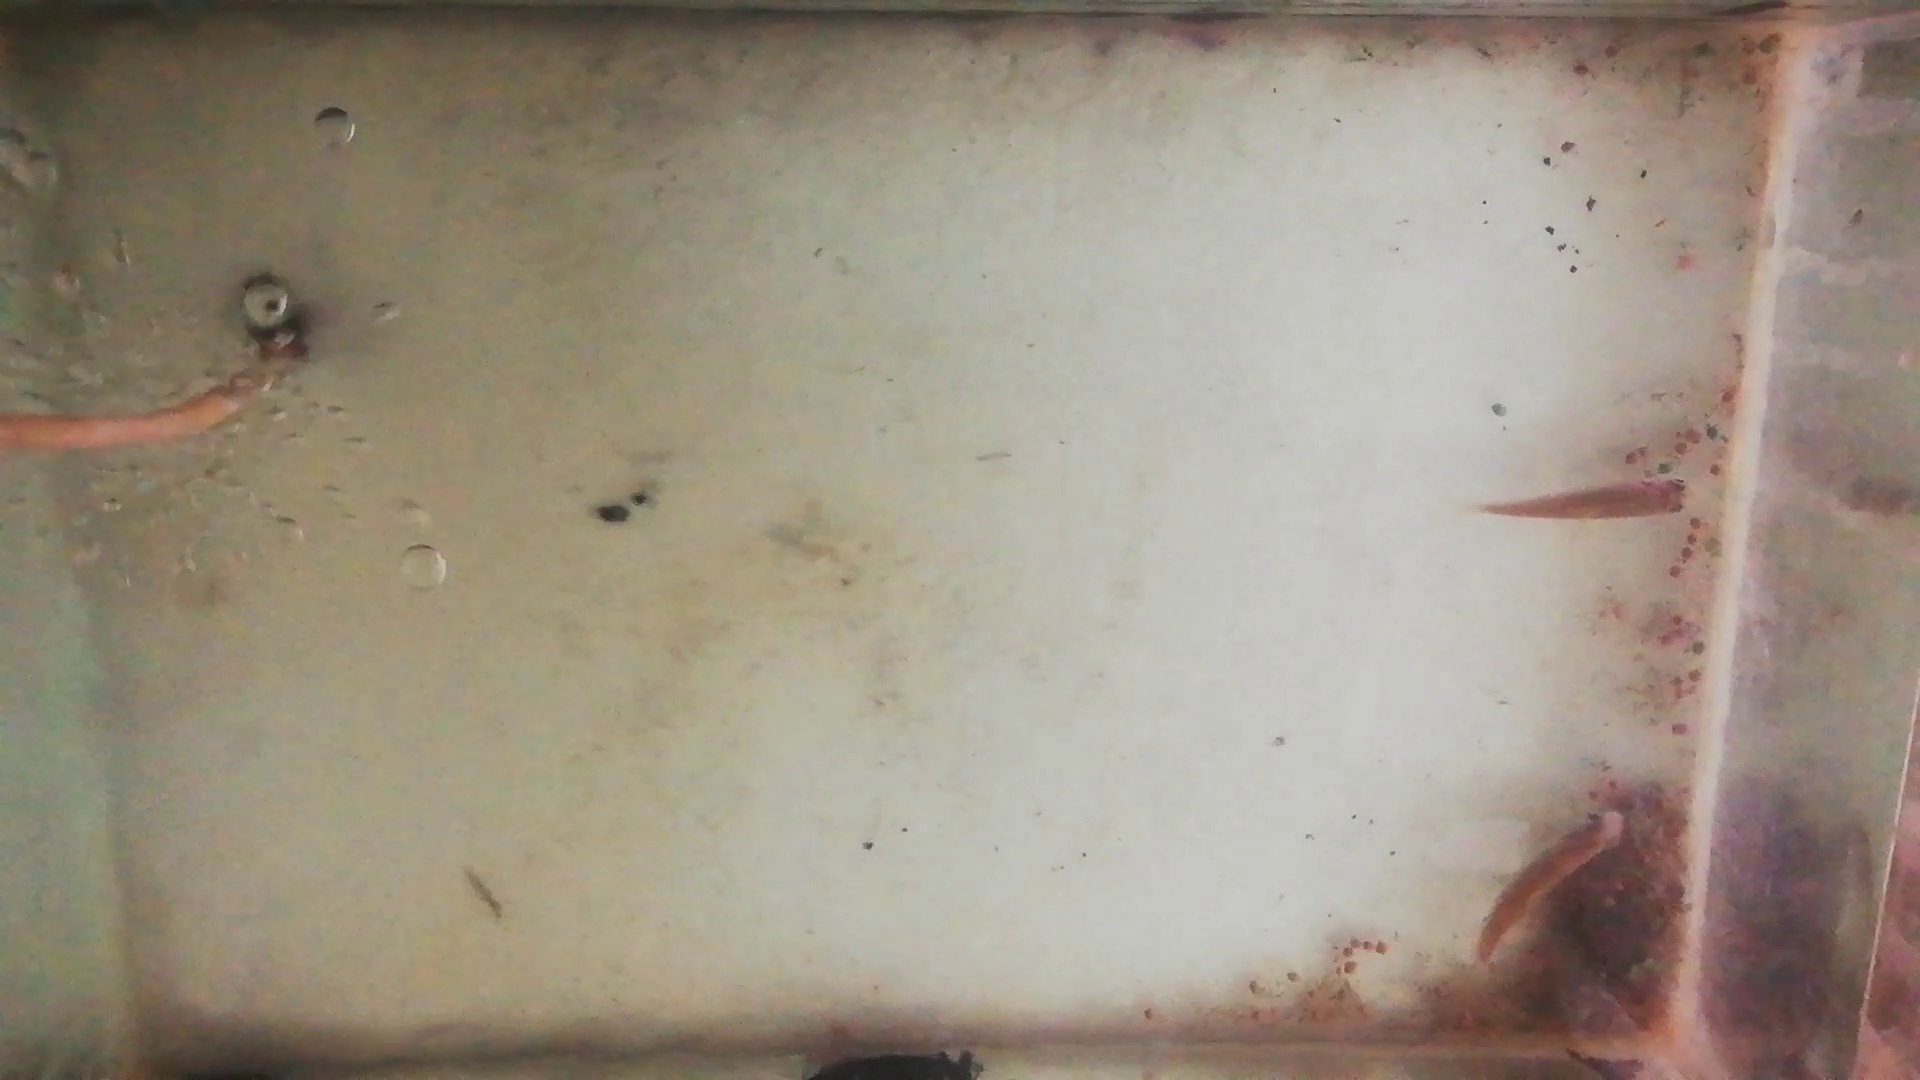fish: (1474, 807, 1627, 969), (1484, 479, 1702, 520)
